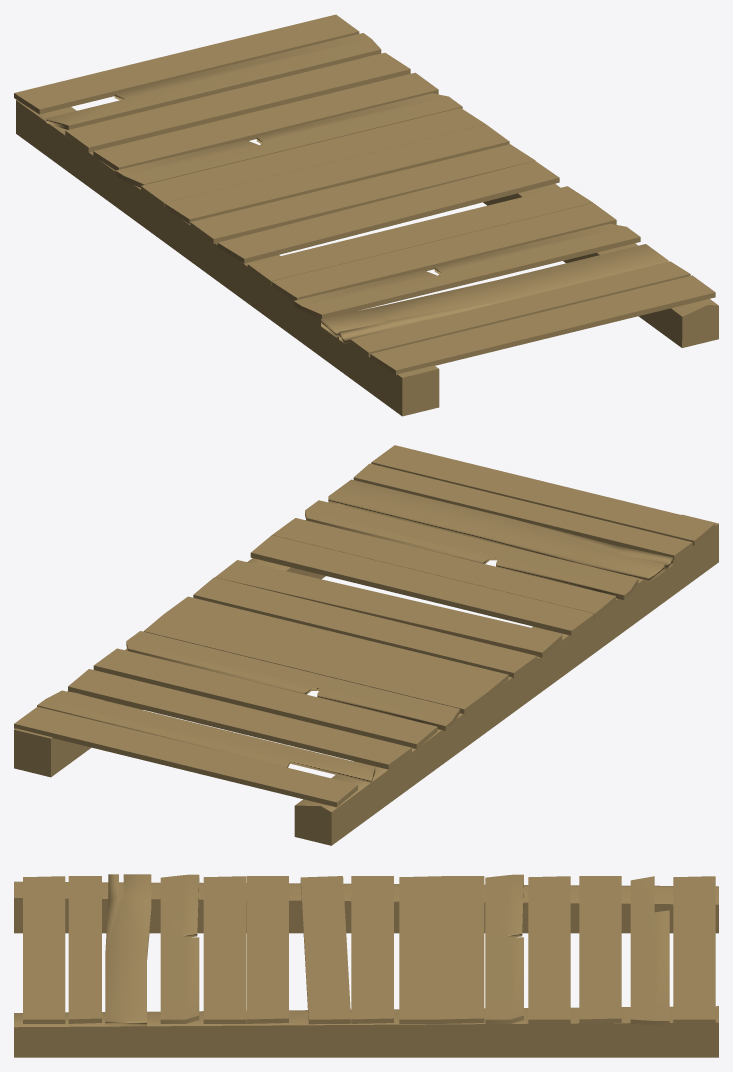
The model's file is Road_Beam_Simple_06.fbx.
The picture shows the model from 3 angles, top to bottom: view 1: azimuth 30°, elevation 25°; view 2: azimuth 150°, elevation 25°; view 3: azimuth 270°, elevation 25°; orthographic projection. The views are drawn at different scales.
Parts seen in each view (by area): view 1: Road_Beam_Simple_06; view 2: Road_Beam_Simple_06; view 3: Road_Beam_Simple_06.
Boxes of the visible parts, left/top/right/bottom form: Road_Beam_Simple_06: left=14, top=14, right=718, bottom=416; Road_Beam_Simple_06: left=14, top=445, right=718, bottom=845; Road_Beam_Simple_06: left=14, top=874, right=718, bottom=1057.
Bounding box in the file's own units: 147 × 18.81 × 300.
